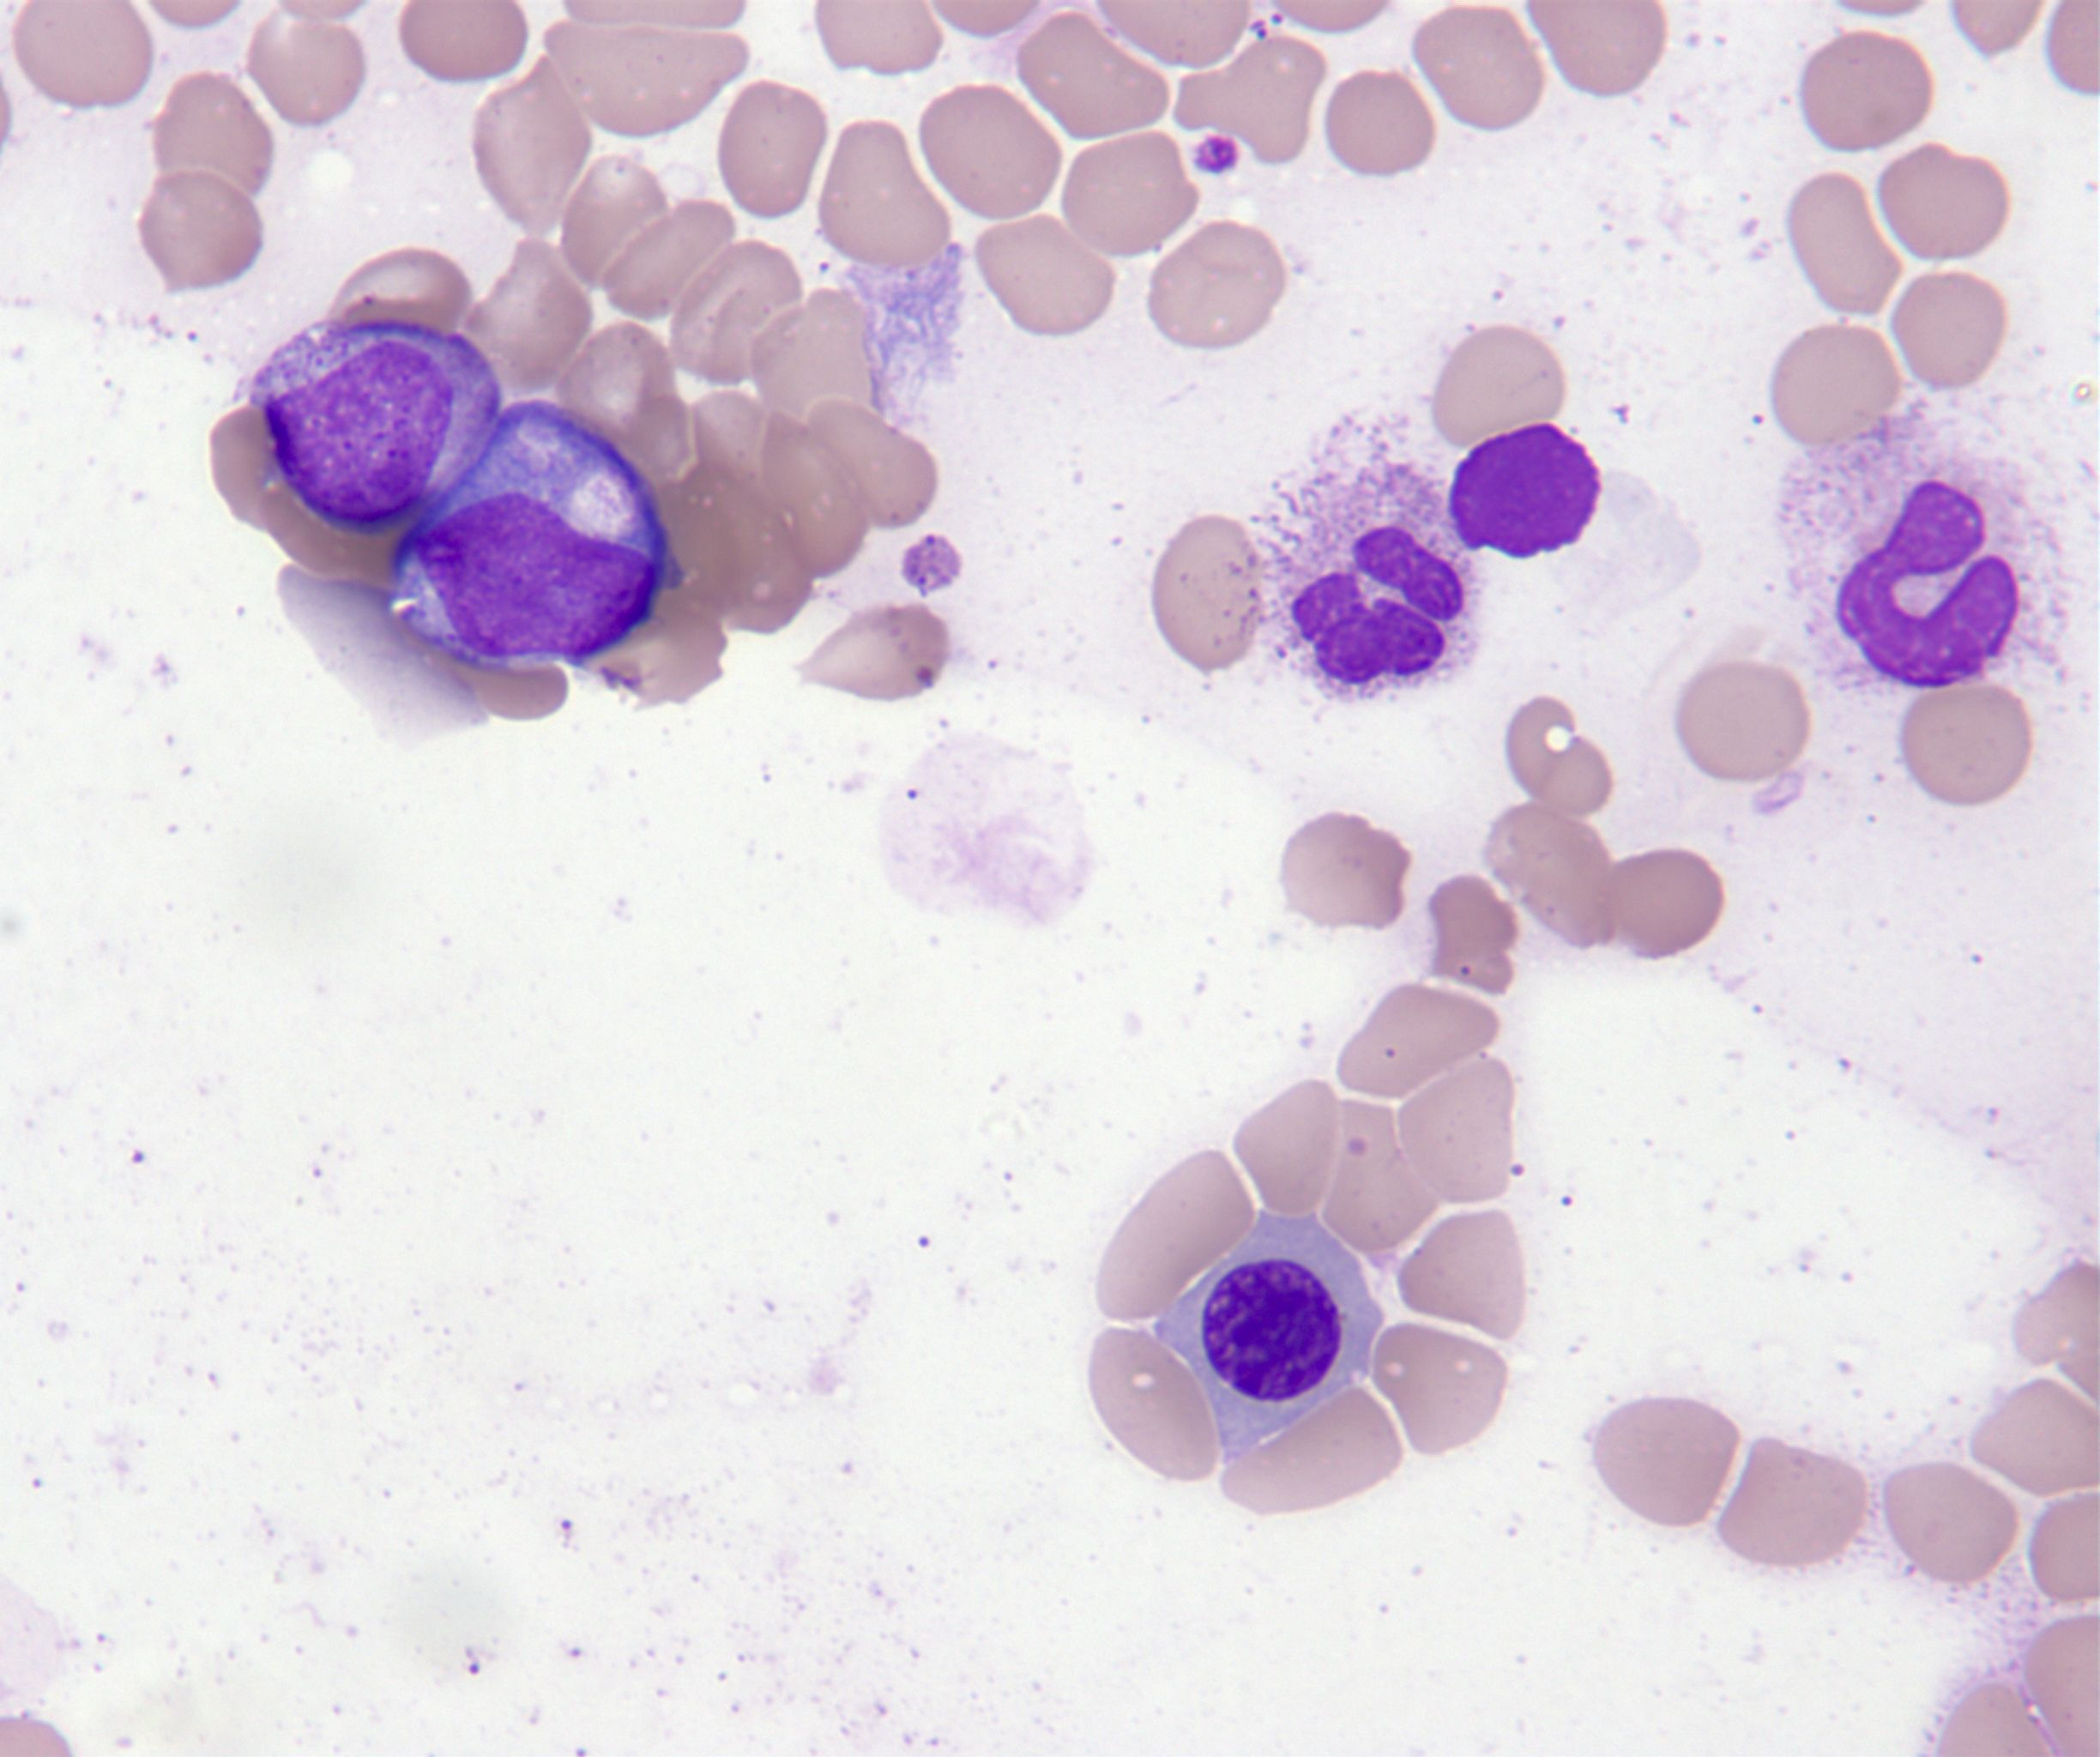2: (385, 401, 682, 670)
23: (1155, 1213, 1383, 1466)
3: (232, 321, 502, 536)
x: (1777, 401, 2069, 698), (1251, 455, 1479, 701), (1448, 420, 1599, 558)
